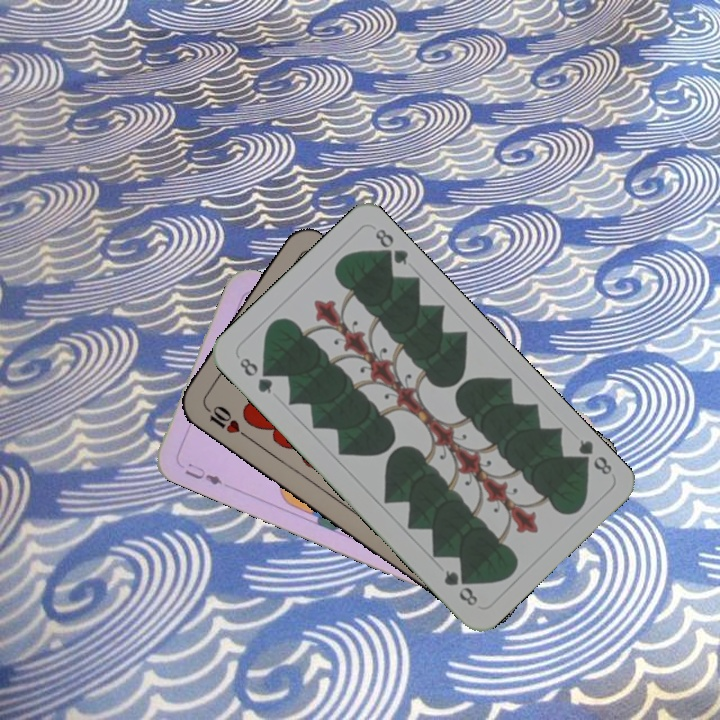EU: (181, 459, 226, 488)
G8: (570, 435, 615, 478), (235, 353, 276, 397)
H10: (199, 400, 250, 441)
